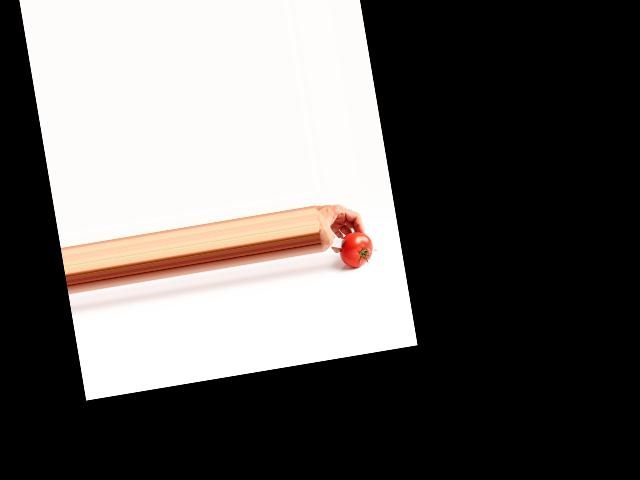tomato: (337, 229, 375, 269)
